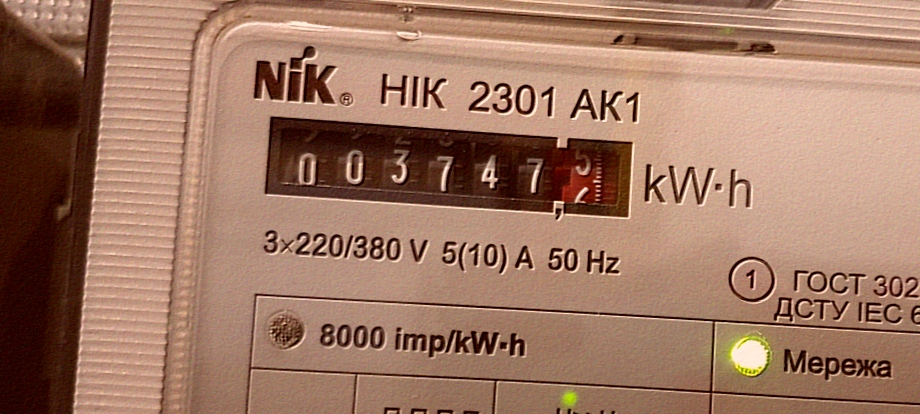0: (343, 145, 365, 185), (295, 149, 319, 185)
3: (389, 146, 410, 184)
4: (478, 150, 500, 191)
5: (572, 147, 593, 176)
6: (571, 182, 590, 204)
7: (521, 153, 546, 194), (433, 152, 454, 192)
screen: (254, 104, 648, 232)
